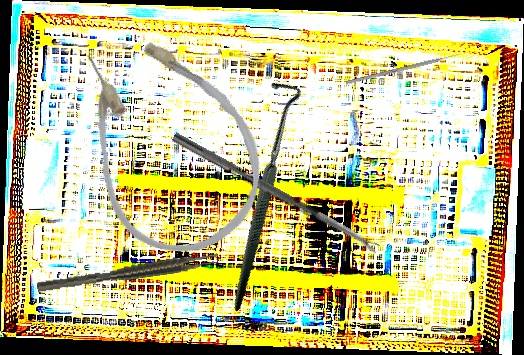Cannula: (48, 5, 289, 277)
Hook Surgical: (141, 71, 377, 314)
Pusher: (345, 51, 467, 85)
Surgical Spoon: (170, 132, 381, 255)
Tissue Forceps: (35, 251, 220, 293)
